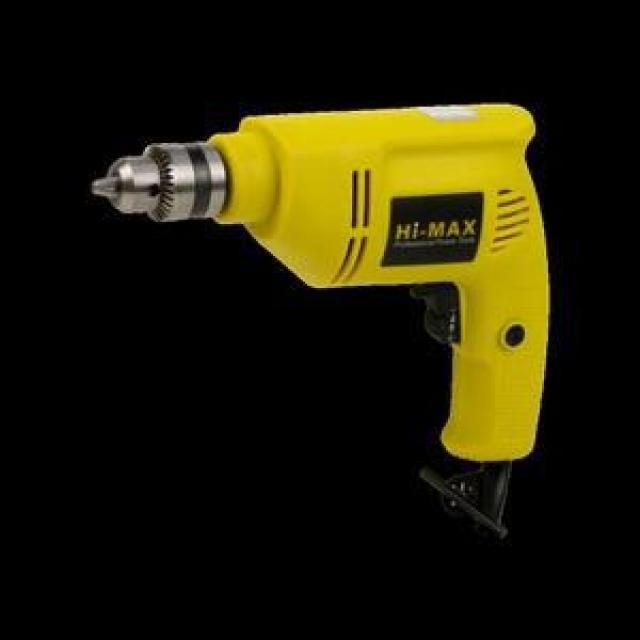drill: (92, 104, 550, 538)
